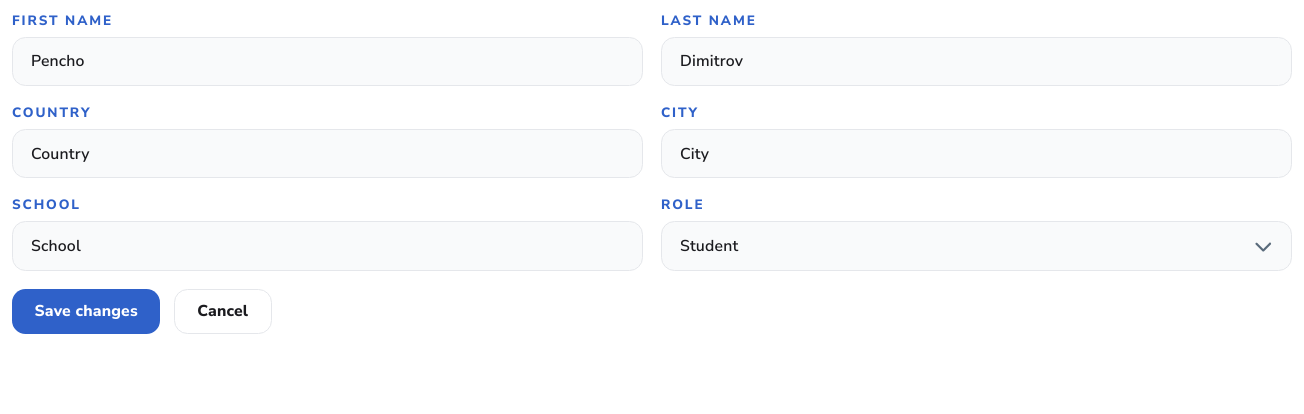
Test case: UserEditForm › shows fallback error for non-error rejection
Click the button "Save changes".
click(86, 311)  # box [12, 289, 160, 334]
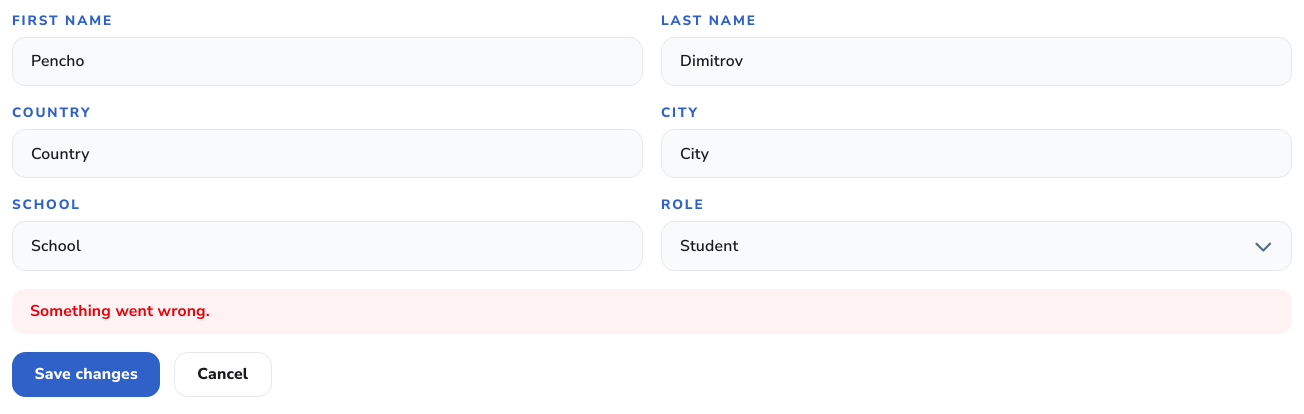
Check: the text "Something went wrong." is shown, box [12, 289, 1292, 334]
